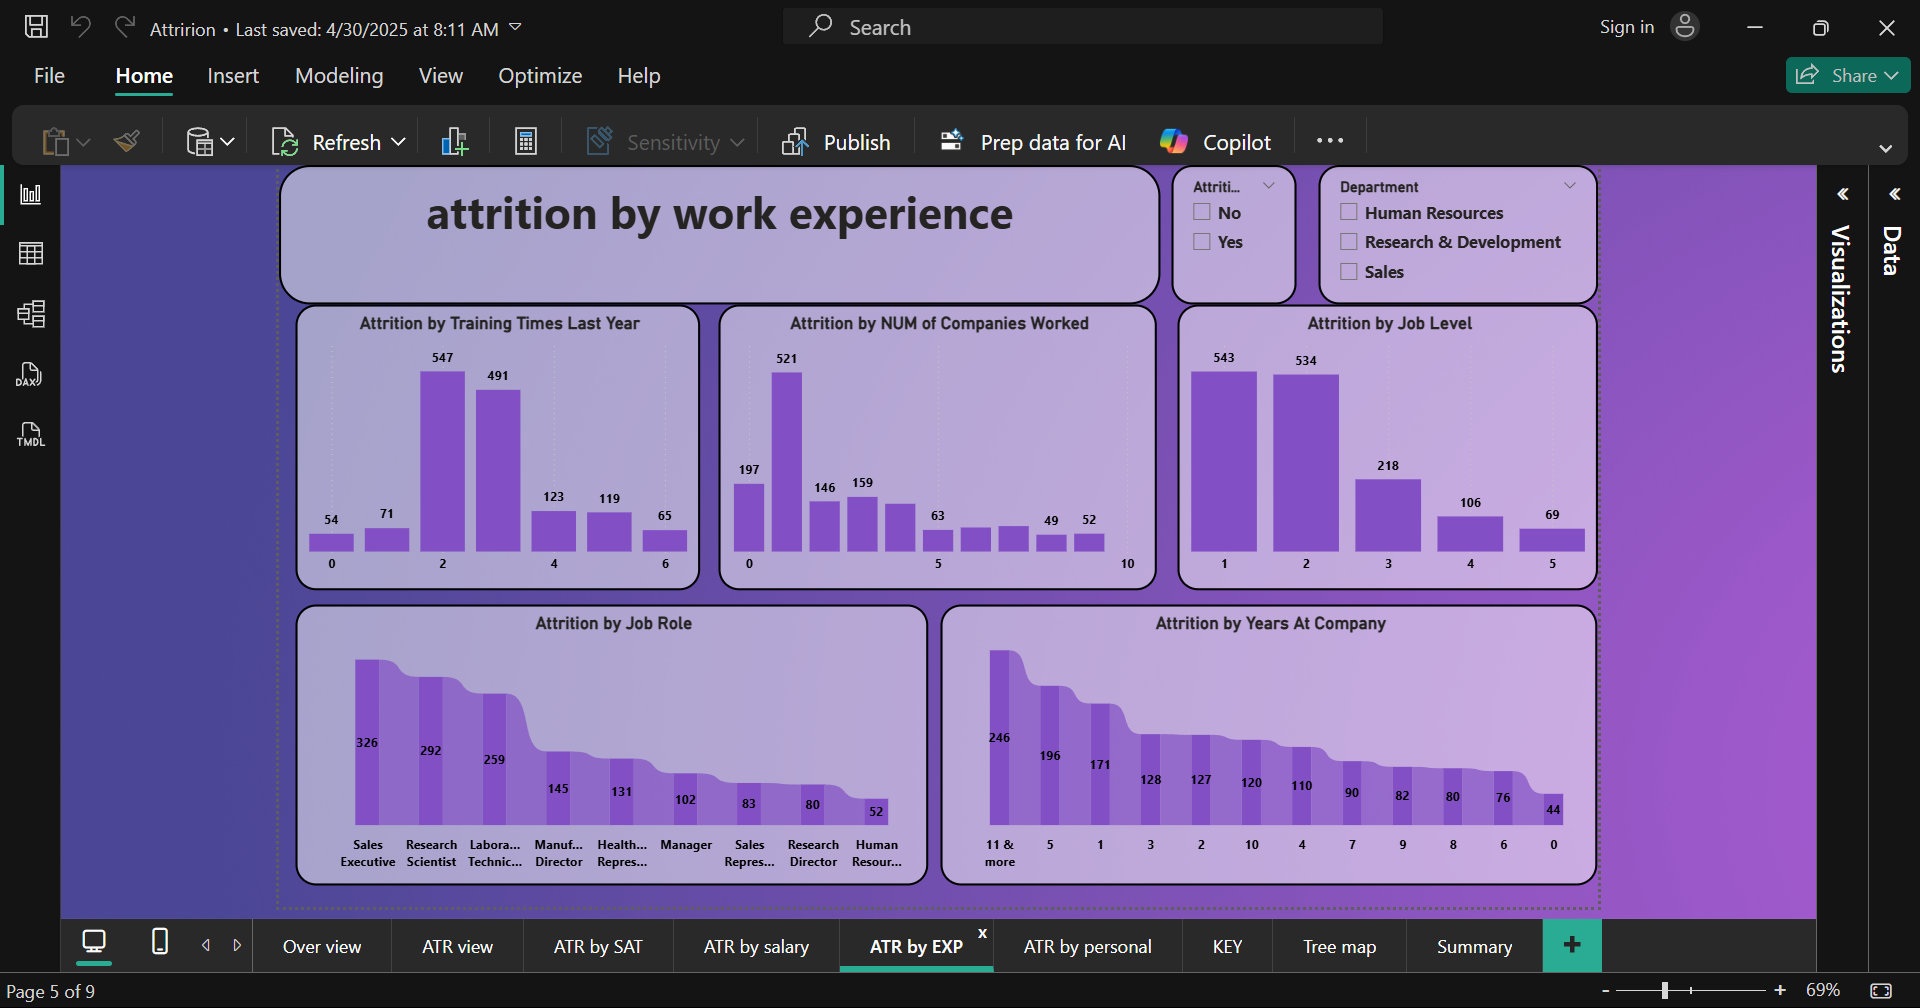

Layout of this report page (visuals, bound fields, positions):
{"tool":"powerbi","page":{"name":"ATR by EXP","canvas":[1280,720],"ordinal":4},"visuals":[{"type":"clusteredColumnChart","title":"Attrition by Training Times Last Year","fields":{"Category":["clean data.TrainingTimesLastYear"],"Y":["CountNonNull(clean data.Attrition)"]},"box":[15.6,135.6,392.7,277.4],"z":0},{"type":"textbox","box":[0,0,855.6,135.6],"z":1000},{"type":"clusteredColumnChart","title":"Attrition by Job Level","fields":{"Y":["CountNonNull(clean data.Attrition)"],"Category":["clean data.JobLevel"]},"box":[871.2,135.6,408.3,277.4],"z":2000},{"type":"clusteredColumnChart","title":"Attrition by NUM of Companies Worked","fields":{"Category":["clean data.NumCompaniesWorked"],"Y":["CountNonNull(clean data.Attrition)"]},"box":[427,135.6,425.5,277.4],"z":3000},{"type":"ribbonChart","title":"Attrition by Job Role","fields":{"Category":["clean data.JobRole"],"Y":["CountNonNull(clean data.Attrition)"]},"box":[15.6,427,614,272.7],"z":4000},{"type":"ribbonChart","title":"Attrition by Years At Company","fields":{"Category":["clean data.YearsAtCompany (groups)"],"Y":["CountNonNull(clean data.Attrition)"]},"box":[642.1,427,637.4,272.7],"z":5000},{"type":"slicer","fields":{"Values":["clean data.Department"]},"box":[1008.3,0,271.2,135.6],"z":6000},{"type":"slicer","fields":{"Values":["clean data.Attrition"]},"box":[866.5,0,121.6,135.6],"z":7000}]}

Visuals, with their boxes on the page's 1280x720 design canvas (x1, y1, x2, y2). These are canvas units, not pixel positions in the 1920x1008 screenshot, which may show the page scaled, cropped or inside an application window:
"Attrition by Training Times Last Year" clusteredColumnChart: (16, 136, 408, 413)
textbox: (0, 0, 856, 136)
"Attrition by Job Level" clusteredColumnChart: (871, 136, 1280, 413)
"Attrition by NUM of Companies Worked" clusteredColumnChart: (427, 136, 852, 413)
"Attrition by Job Role" ribbonChart: (16, 427, 630, 700)
"Attrition by Years At Company" ribbonChart: (642, 427, 1280, 700)
slicer - clean data.Department: (1008, 0, 1280, 136)
slicer - clean data.Attrition: (866, 0, 988, 136)
